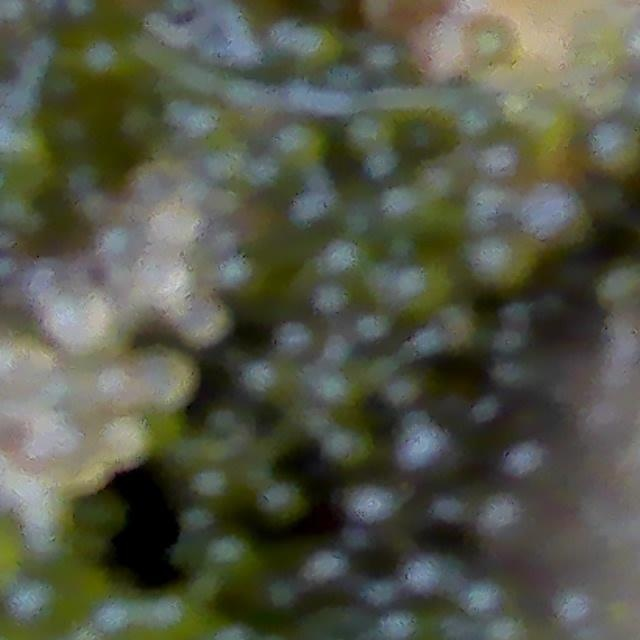SeaGrape: (0, 331, 64, 427), (2, 570, 89, 640), (342, 473, 420, 540), (396, 421, 468, 491), (470, 497, 541, 563), (42, 285, 111, 352), (471, 233, 533, 289), (393, 258, 455, 314), (140, 349, 197, 406), (462, 16, 517, 72), (149, 196, 204, 251), (139, 254, 193, 308), (176, 298, 229, 351), (590, 116, 640, 172), (273, 319, 323, 368)
